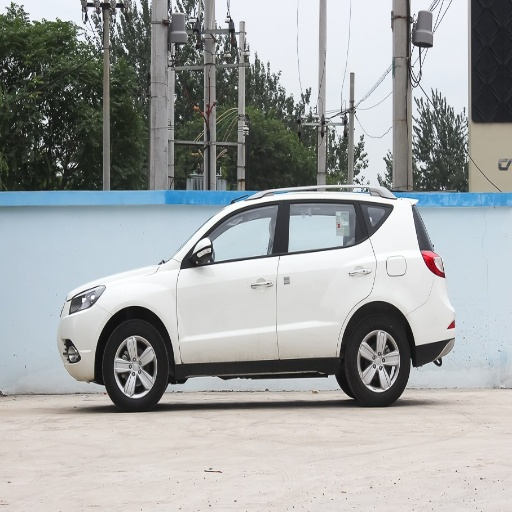back_left_door: (277, 199, 376, 358)
front_left_door: (177, 200, 284, 360)
